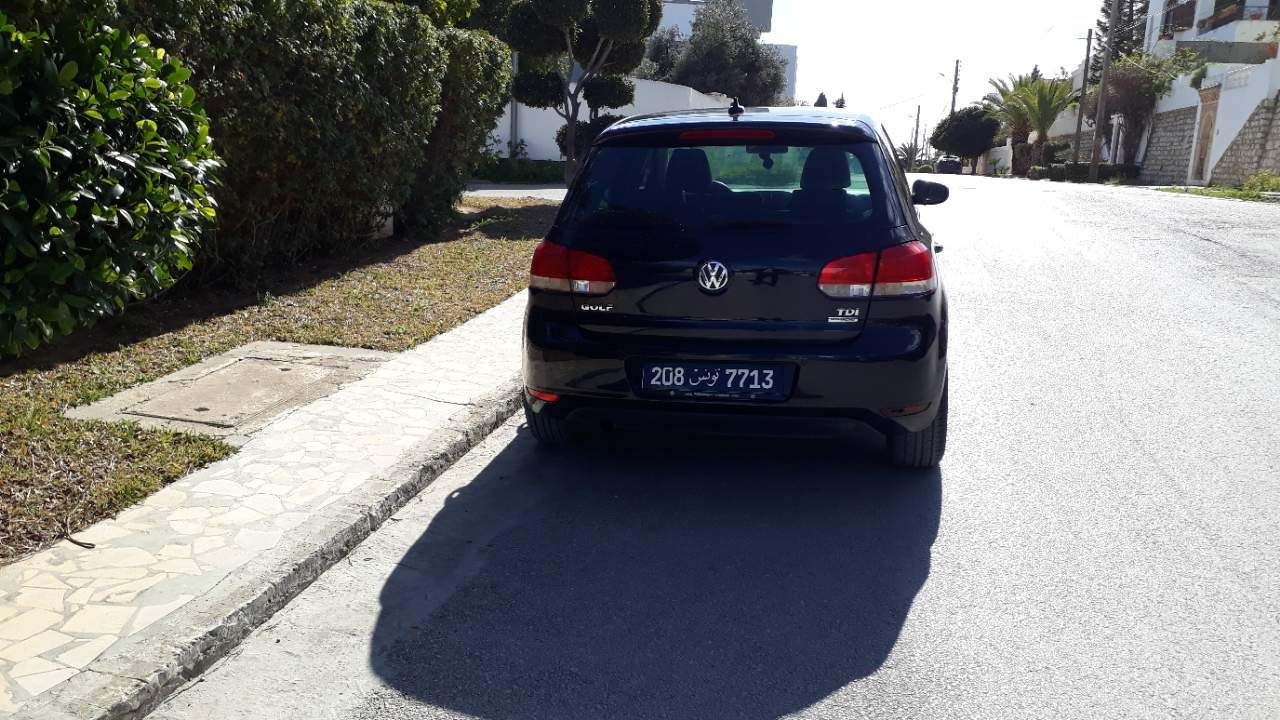LP: (642, 362, 787, 394)
